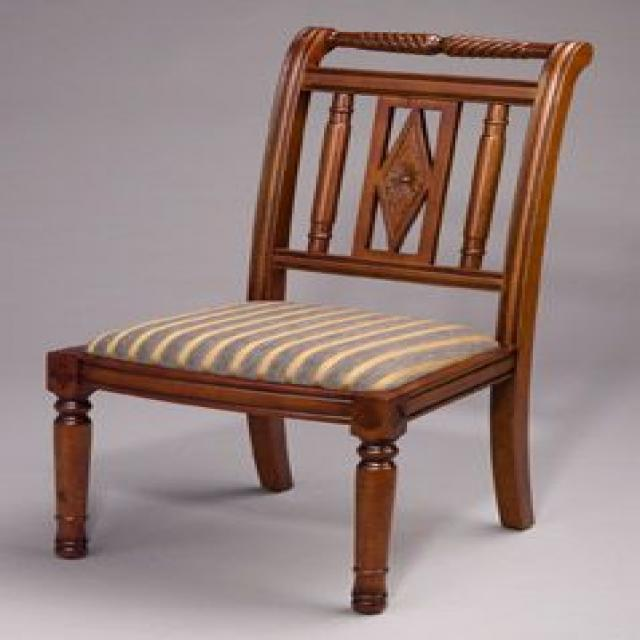Chair: (36, 0, 633, 621)
